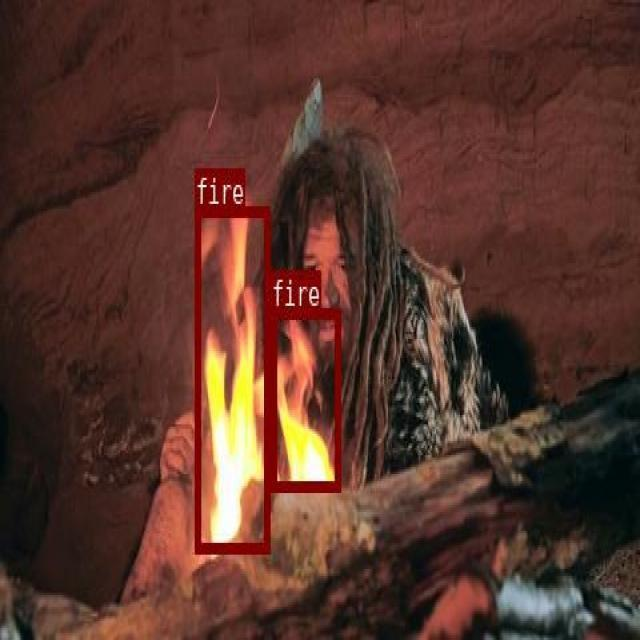fire: (194, 206, 269, 552), (271, 307, 340, 489)
